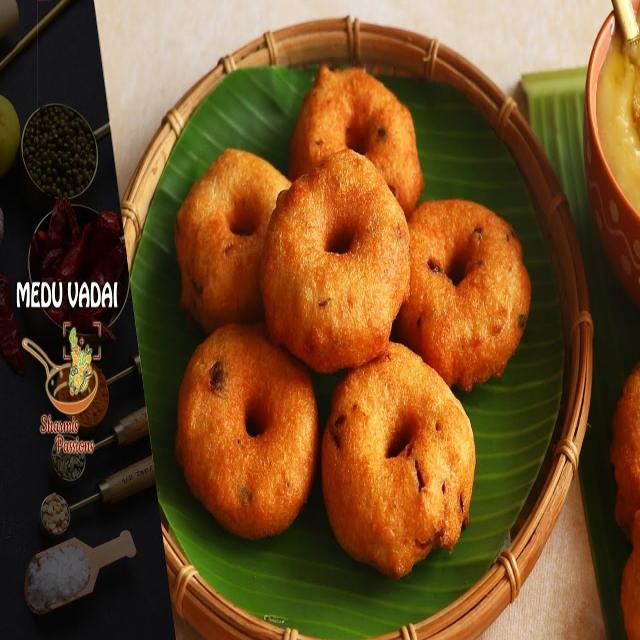medu vadai: (322, 344, 475, 578), (260, 150, 409, 373), (176, 325, 319, 539), (397, 200, 530, 391), (175, 149, 290, 334), (289, 66, 423, 214)
